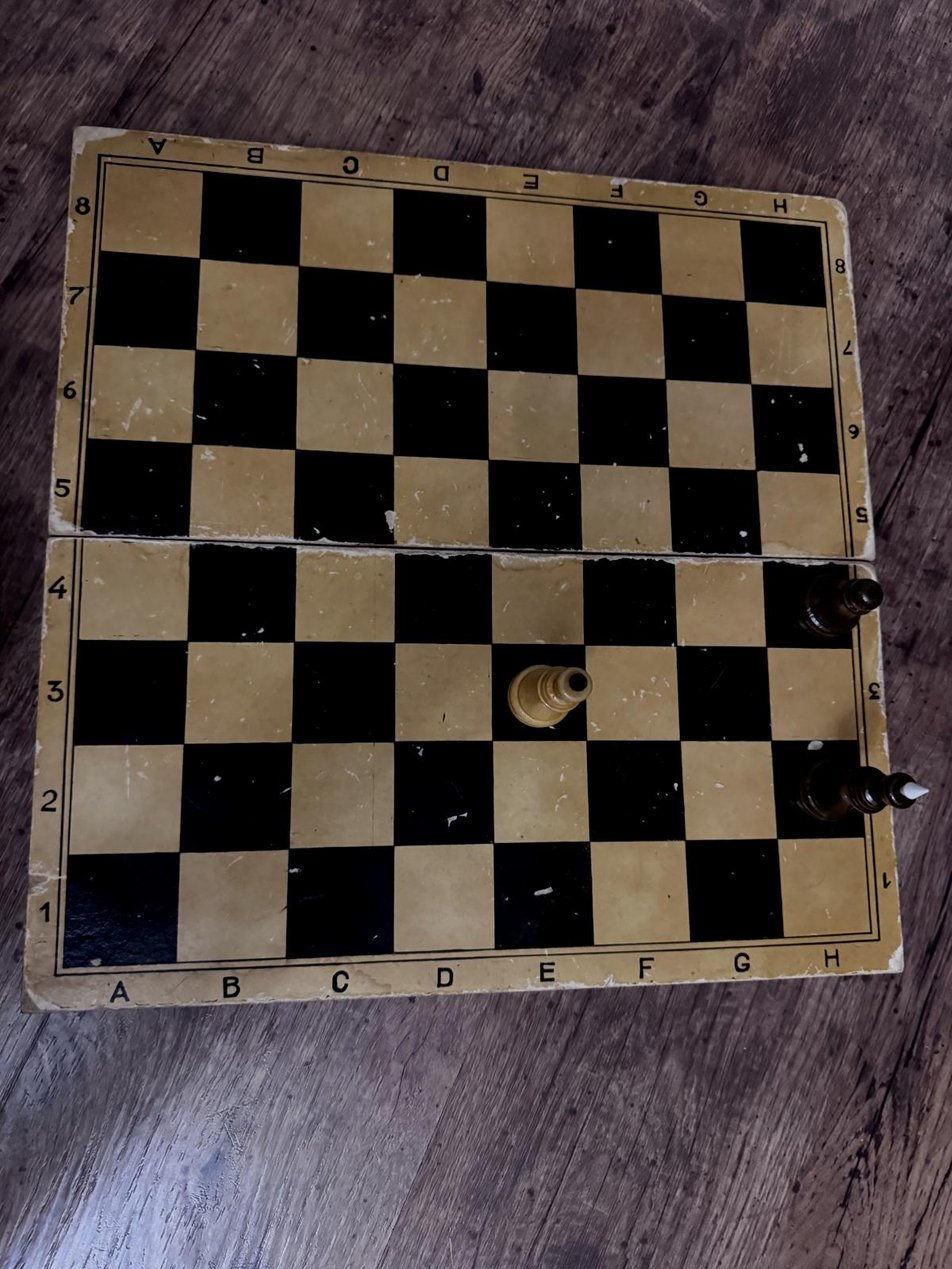Chess-Board: (63, 163, 871, 968)
